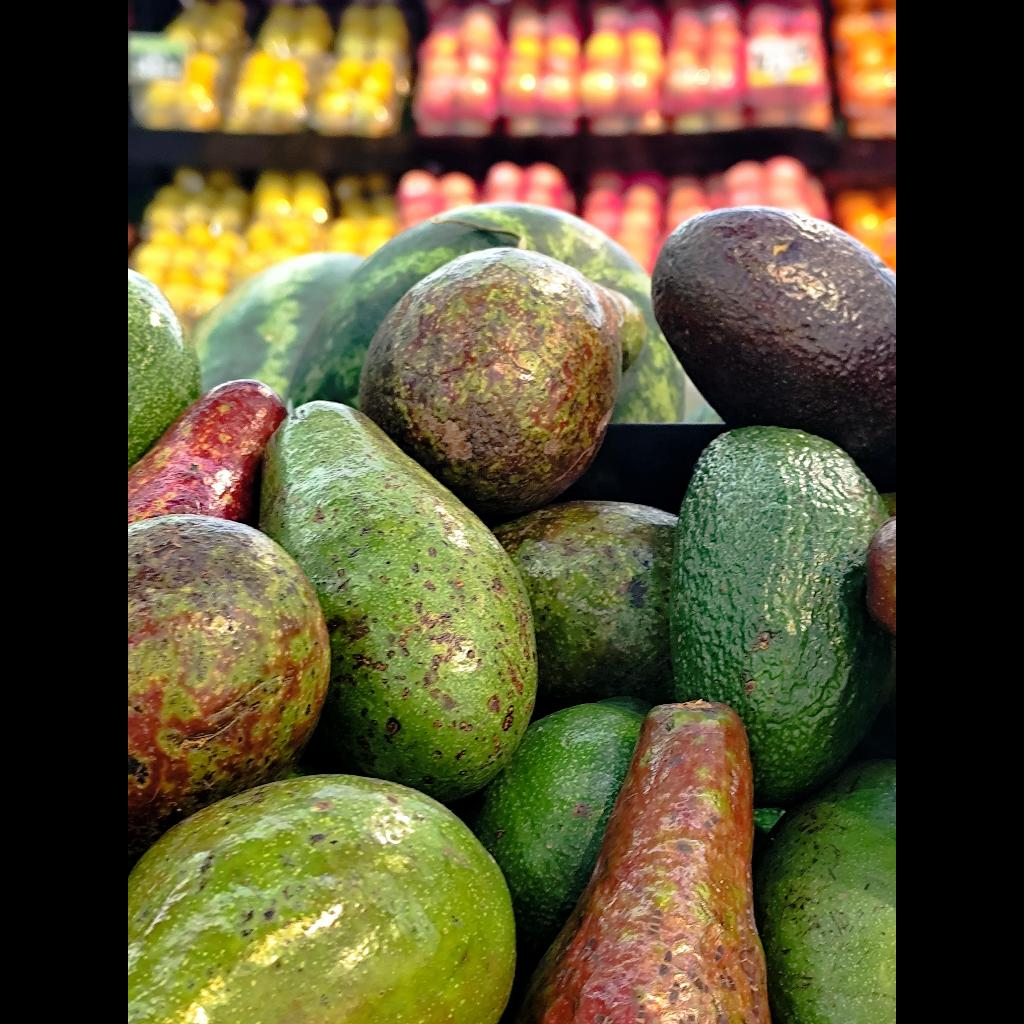antracnosis_fruto: (516, 700, 771, 1024), (128, 515, 330, 859), (652, 206, 896, 472), (128, 380, 286, 523)
rona: (259, 401, 537, 801), (359, 247, 640, 516)
